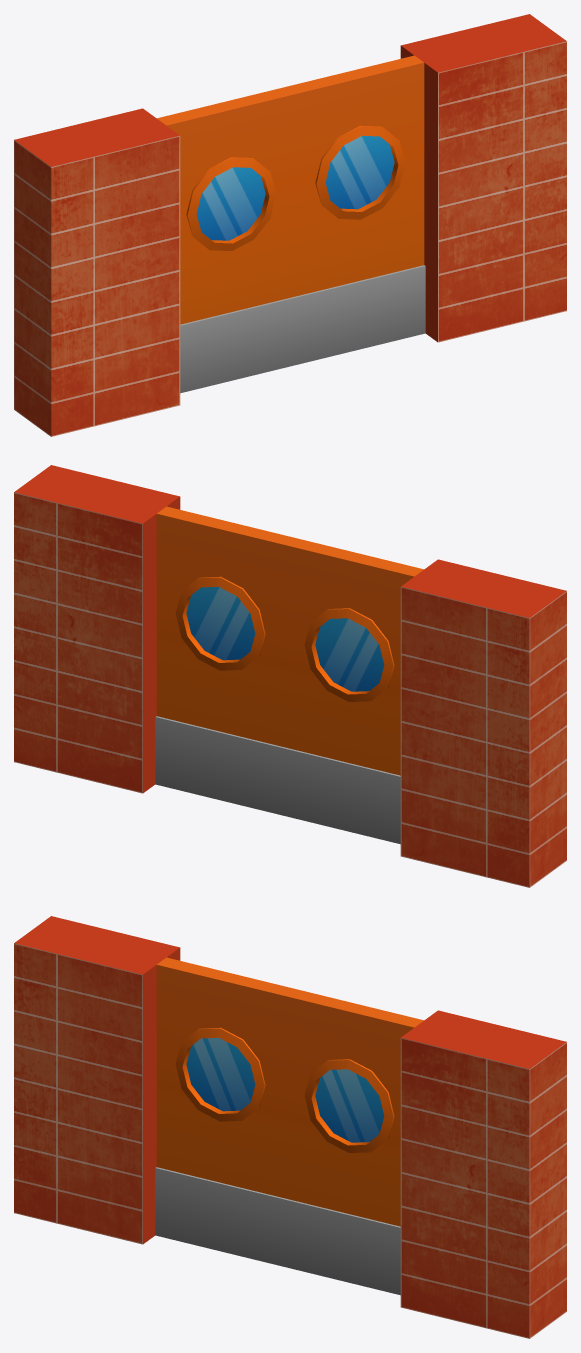
File: Wall_Kitchen__Door_01.fbx
The picture shows the model from 3 angles, top to bottom: view 1: azimuth 30°, elevation 25°; view 2: azimuth 150°, elevation 25°; view 3: azimuth 330°, elevation 25°; orthographic projection.
Parts seen in each view (by area): view 1: Wall_Kitchen _Door_01, Wall_Kitchen _Door_01_L, Wall_Kitchen _Door_01_R; view 2: Wall_Kitchen _Door_01, Wall_Kitchen _Door_01_L, Wall_Kitchen _Door_01_R; view 3: Wall_Kitchen _Door_01, Wall_Kitchen _Door_01_R, Wall_Kitchen _Door_01_L.
Boxes of the visible parts, x1,y1,x2,y2 form: Wall_Kitchen _Door_01: (14, 14, 566, 436); Wall_Kitchen _Door_01_L: (286, 55, 425, 364); Wall_Kitchen _Door_01_R: (157, 87, 296, 393); Wall_Kitchen _Door_01: (14, 465, 566, 887); Wall_Kitchen _Door_01_L: (155, 506, 294, 815); Wall_Kitchen _Door_01_R: (284, 538, 423, 844); Wall_Kitchen _Door_01: (14, 916, 566, 1338); Wall_Kitchen _Door_01_R: (155, 957, 294, 1266); Wall_Kitchen _Door_01_L: (284, 989, 423, 1295).
Bounding box in the file's own units: 400 × 200 × 50.
